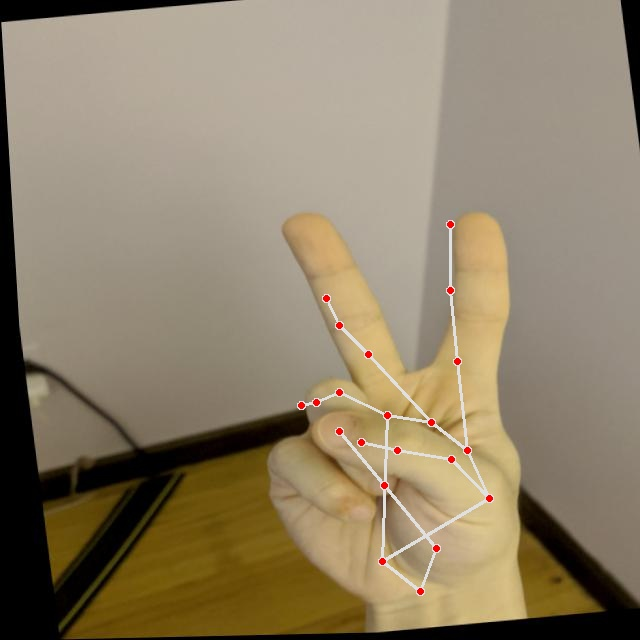V: (219, 189, 554, 618)
